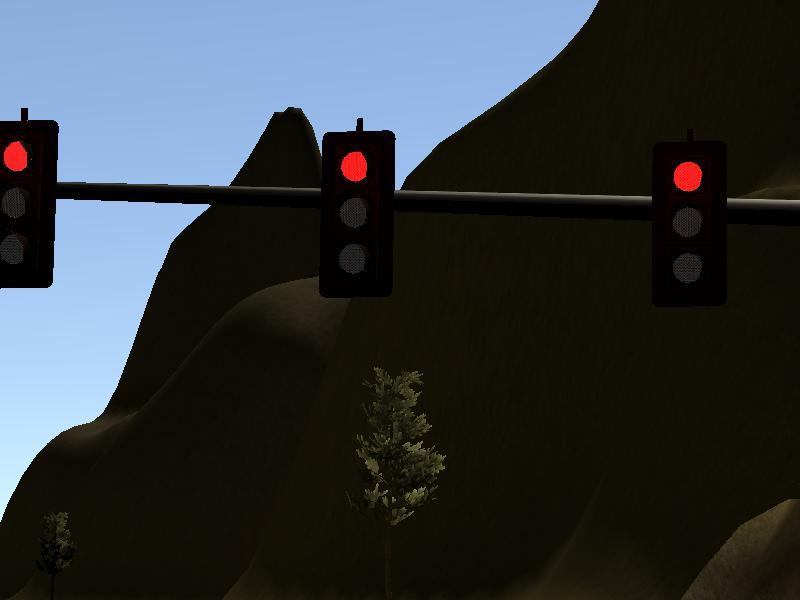Red: (322, 133, 395, 287), (656, 147, 724, 296), (1, 119, 54, 283)
